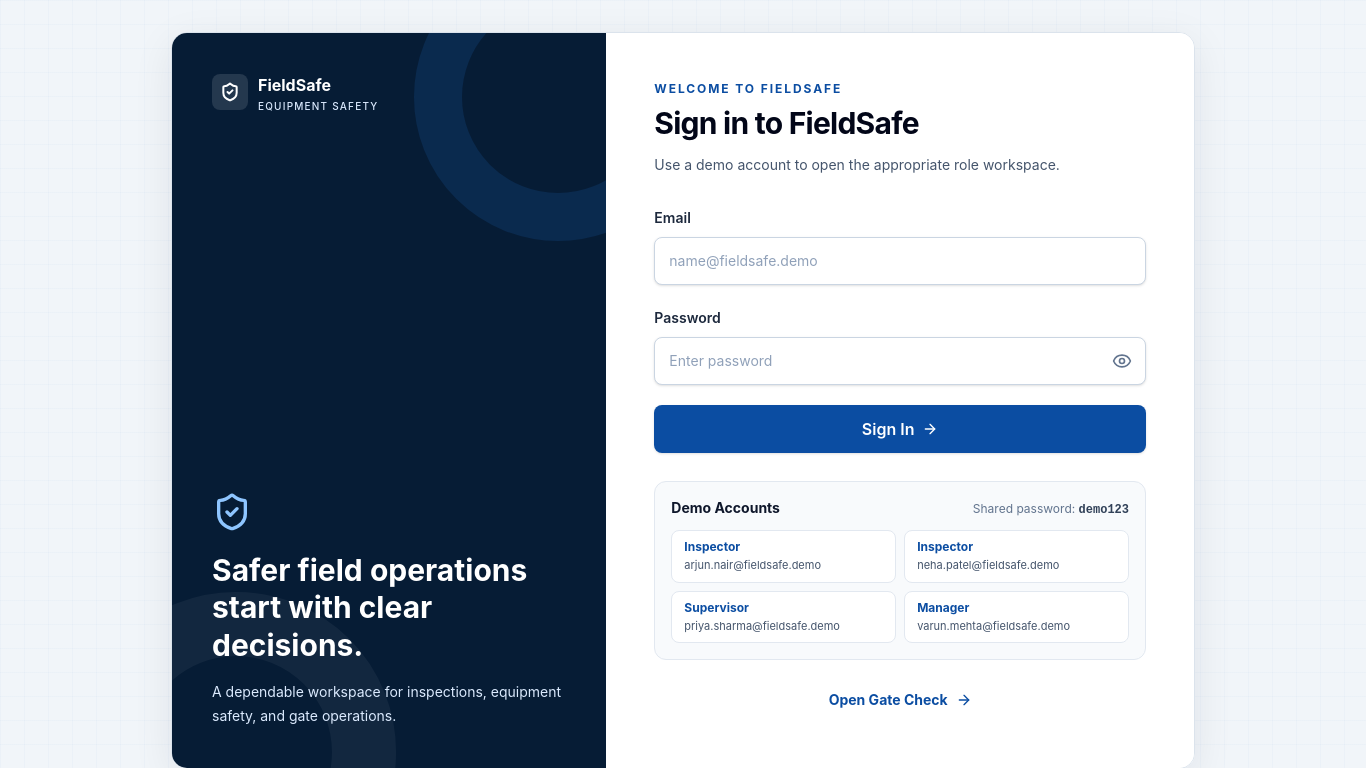
Test: authentication routing › routes a successful Inspector login to /inspector
The width and height of the screenshot is (1366, 768).
Check: the heading "Sign in to FieldSafe" is shown, box [654,105,919,141]
Click the button "Inspector arjun.nair@fieldsafe.demo": (784, 556) [671,530,896,582]
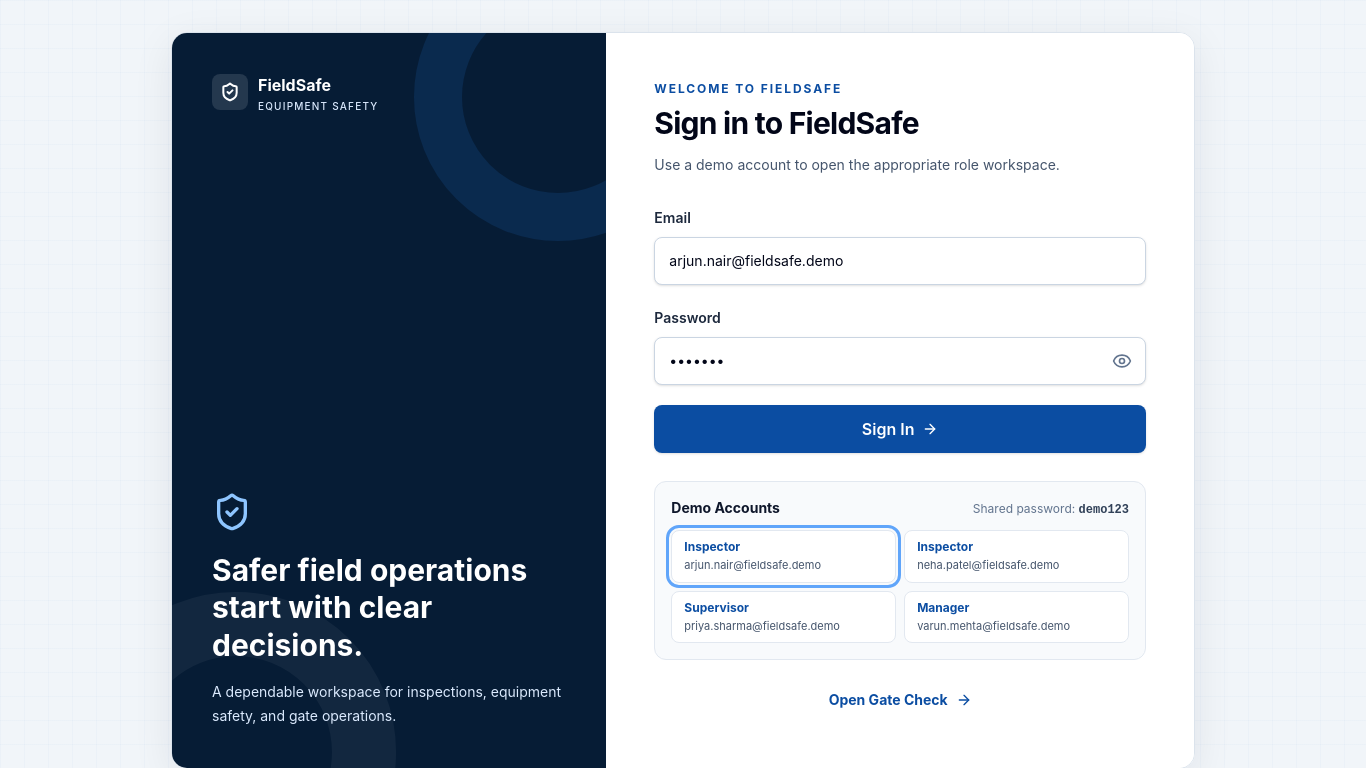
Click the button "Sign In": (900, 429) [654,405,1146,453]
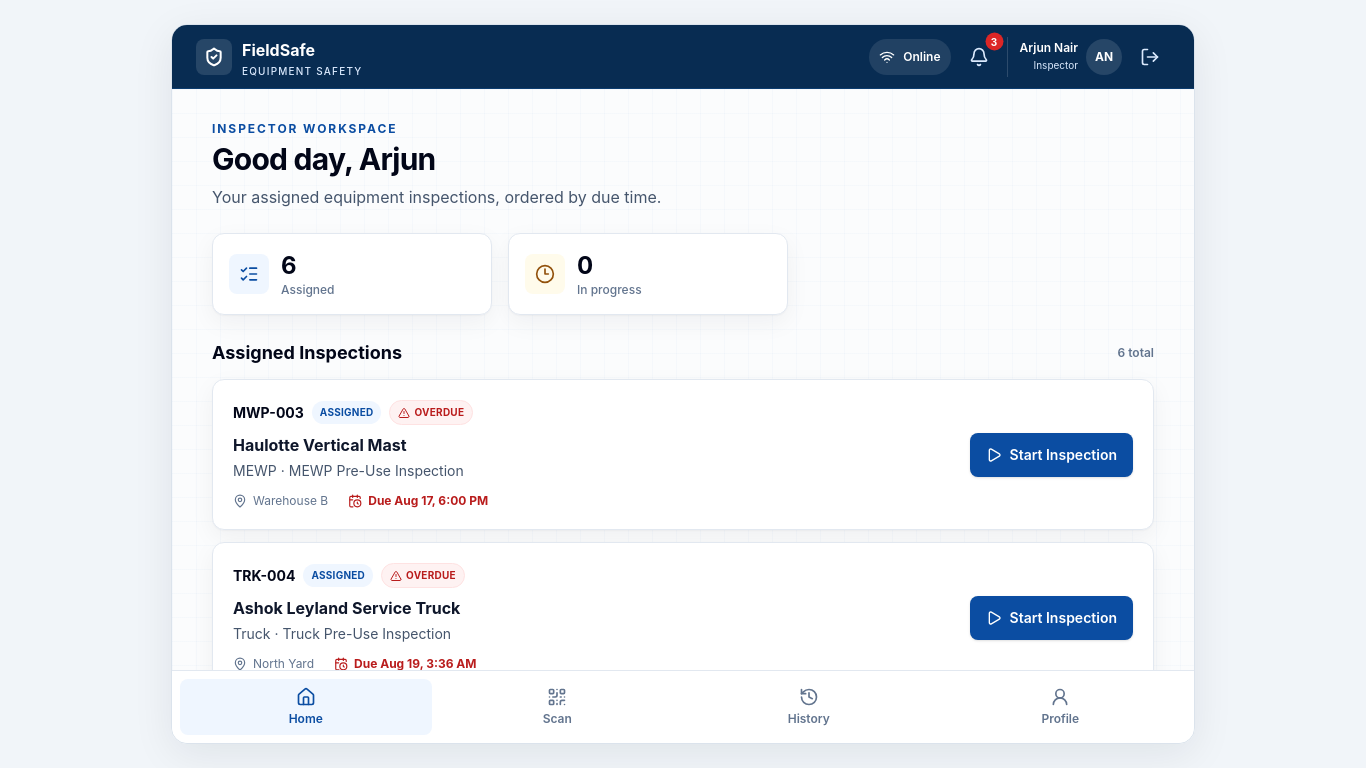
Check: the heading "Good day, Arjun" is shown, box [212,141,436,177]
